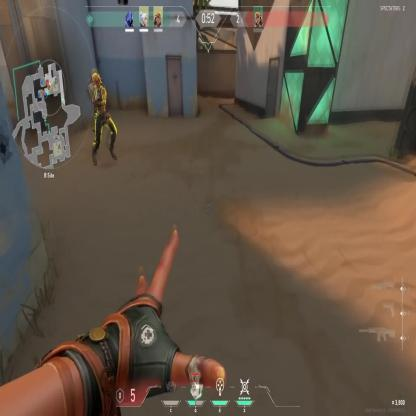enemy: (87, 68, 117, 164)
enemy_head: (92, 72, 101, 90)
